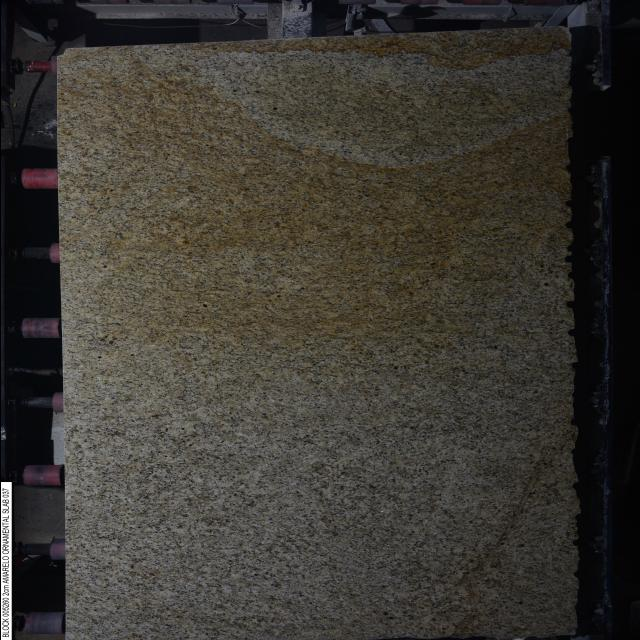chapa: (58, 28, 578, 640)
veio: (563, 326, 579, 338), (562, 300, 576, 311), (561, 254, 573, 264)
